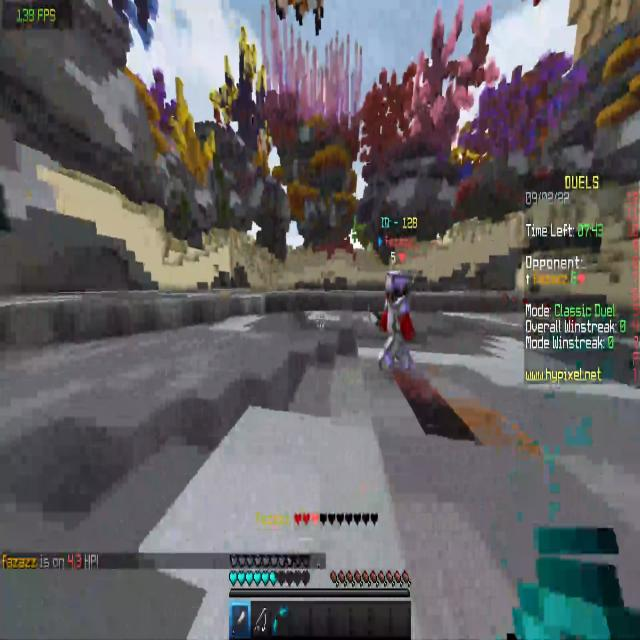Player: (373, 259, 417, 385)
